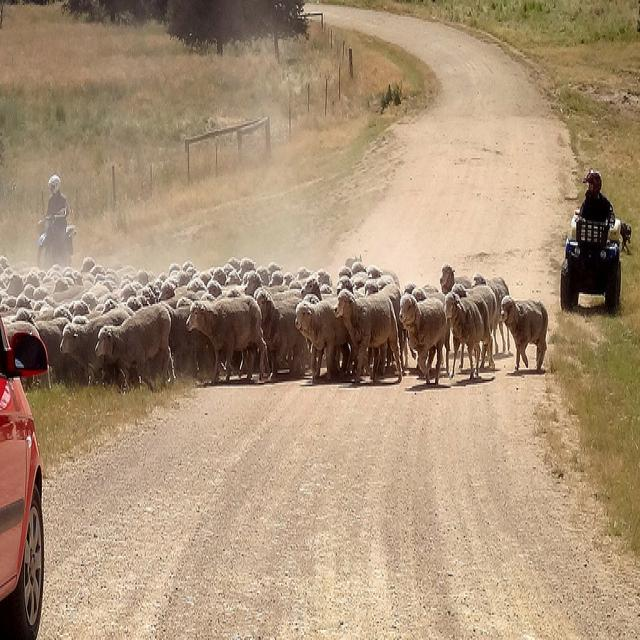motor: (37, 212, 76, 269)
